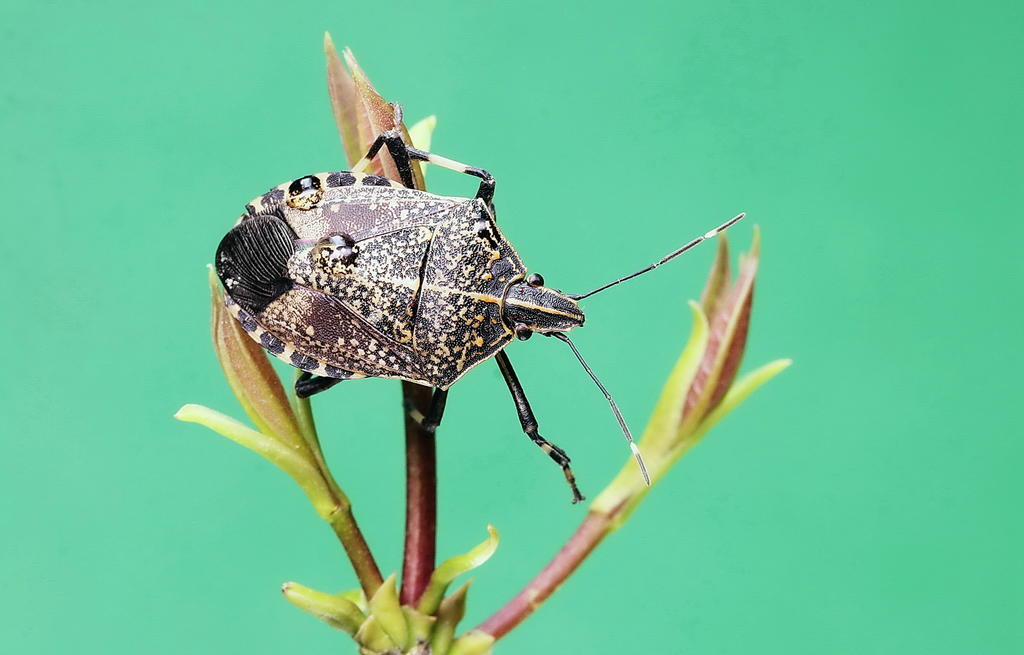chunchong: (222, 158, 691, 457)
